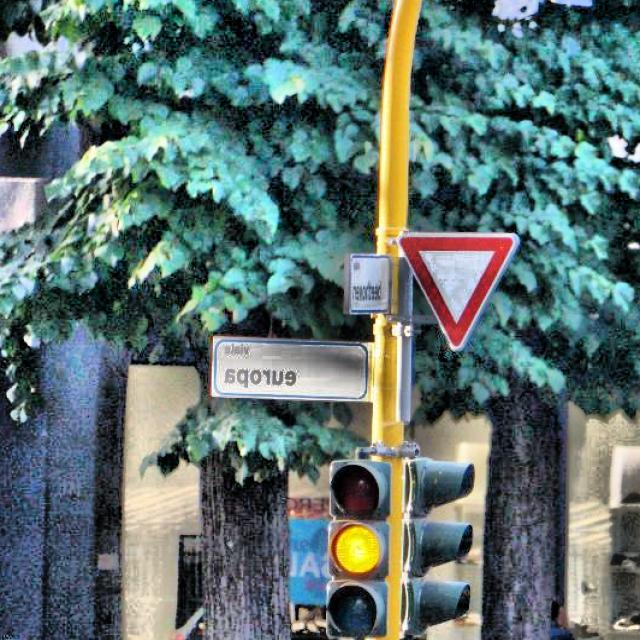yellow: (327, 458, 392, 638)
